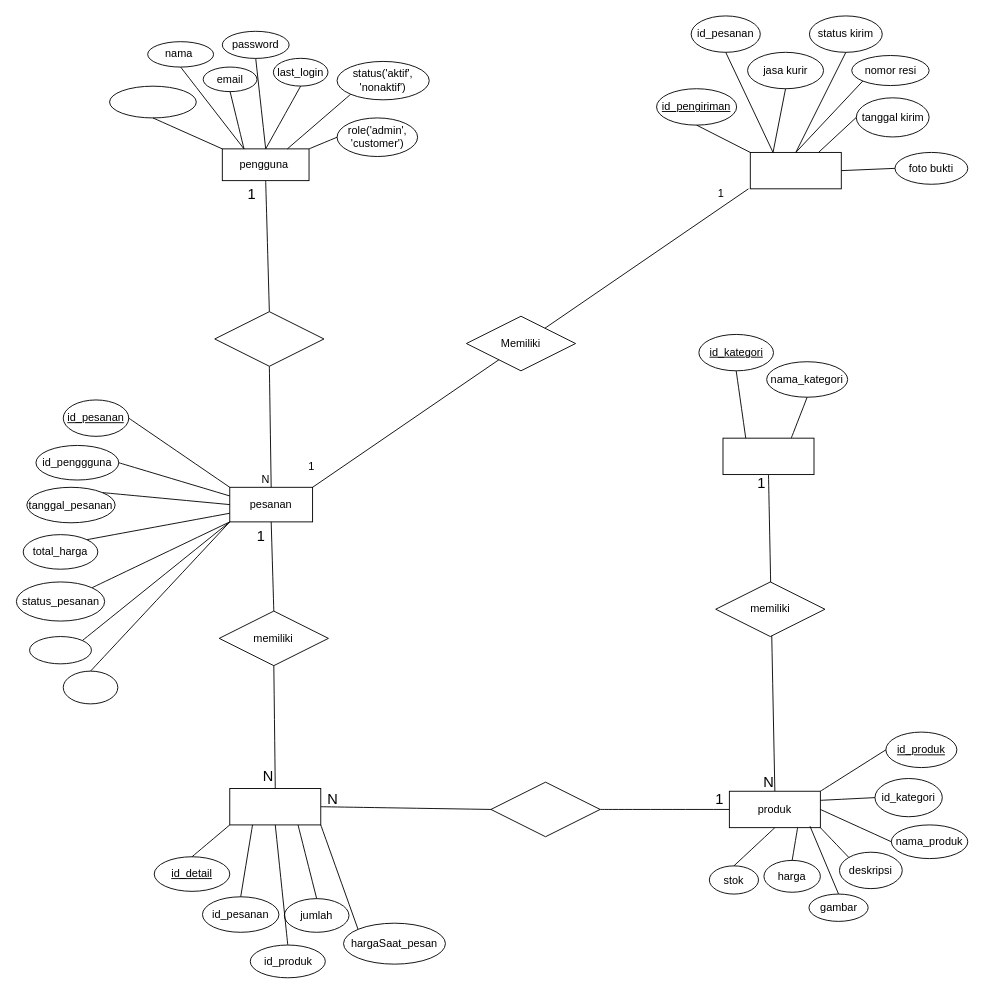
Image size: 984x994. Some labels were removed from this diagram. The centre of each missing label's shape, as x and y in pixels:
alamat: point (90, 687)
Detail_Pesanan: point (275, 806)
id_pengguna: point (152, 101)
kategori: point (768, 456)
melakukan: point (269, 338)
Pengiriman: point (795, 170)
telepon: point (60, 650)
tercatat di: point (545, 809)
